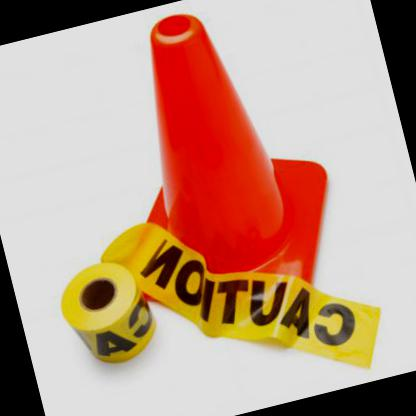cone: (74, 0, 358, 351)
